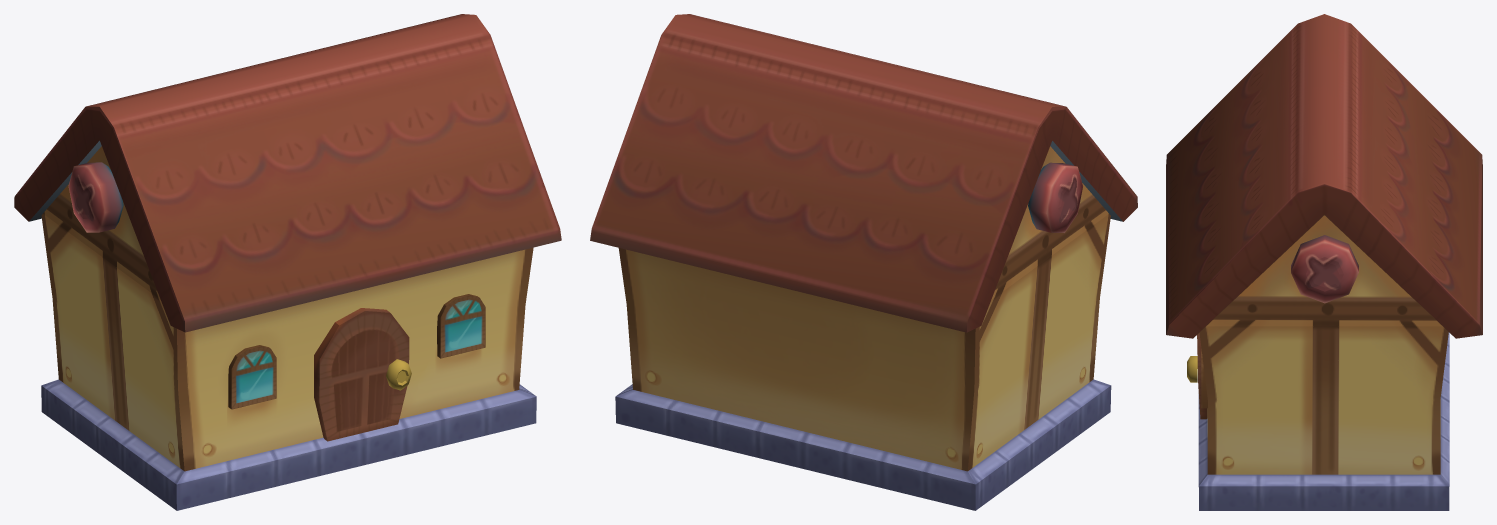
The model's file is house_r.FBX.
The picture shows the model from 3 angles, left to right: view 1: azimuth 30°, elevation 25°; view 2: azimuth 150°, elevation 25°; view 3: azimuth 270°, elevation 25°; orthographic projection. The views are drawn at different scales.
Visible parts, largest first — view 1: Box078; view 2: Box078; view 3: Box078.
Boxes of the visible parts, x1=… form: Box078: x1=14, y1=14, x2=561, y2=510; Box078: x1=590, y1=14, x2=1137, y2=510; Box078: x1=1166, y1=14, x2=1482, y2=510.
Bounding box in the file's own units: 29.71 × 24.73 × 21.49.
